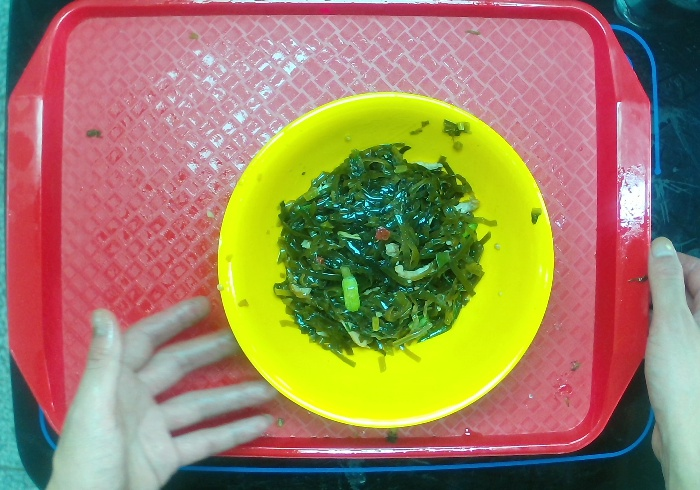YKMZ-Huang_Se_Tang_Wan: (216, 89, 565, 433)
